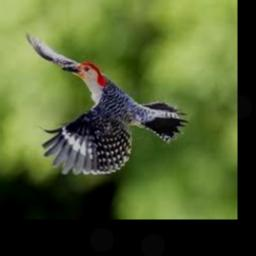Woodpecker: (25, 30, 186, 174)
